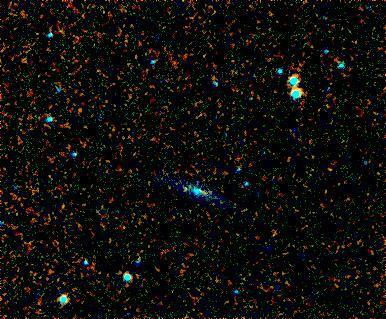star: (168, 173, 198, 203)
